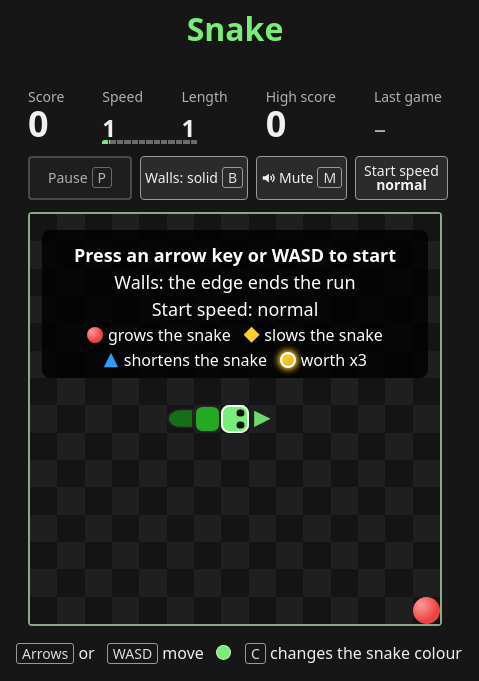
fast shows a higher speed level once the game runs, and the button is disabled
This screenshot has width=479, height=681.
Click the button with aria-label "Start speed: normal": (402, 178) [355,156,448,200]
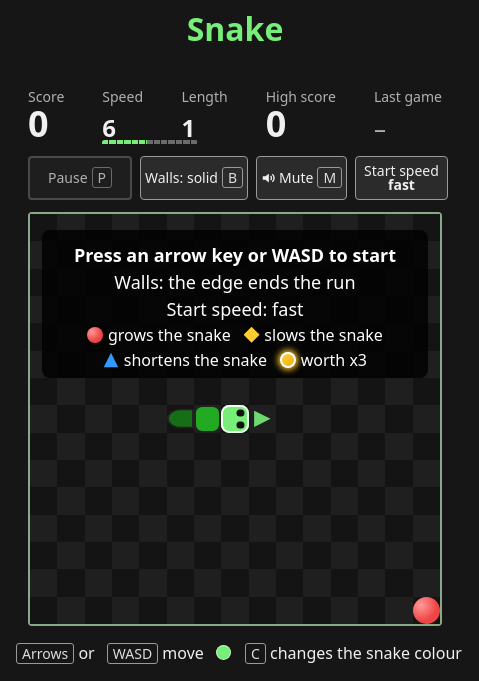
Press ArrowUp
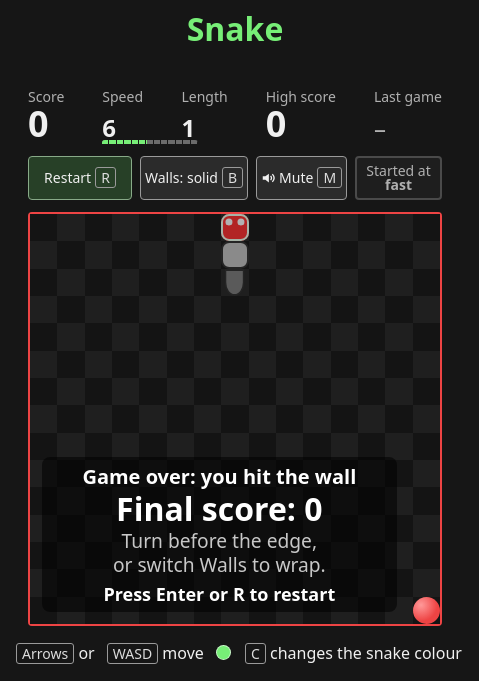
Check: the button with aria-label "Started at: fast" is disabled, box [355,156,442,200]
